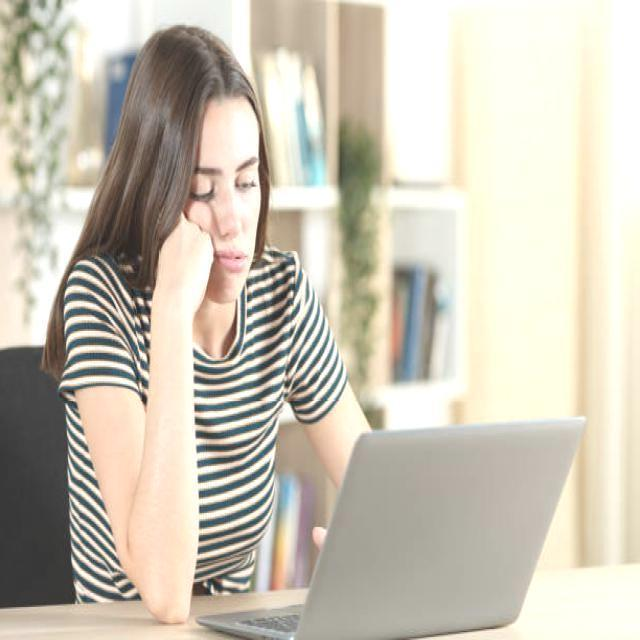Looking away: (183, 95, 260, 302)
